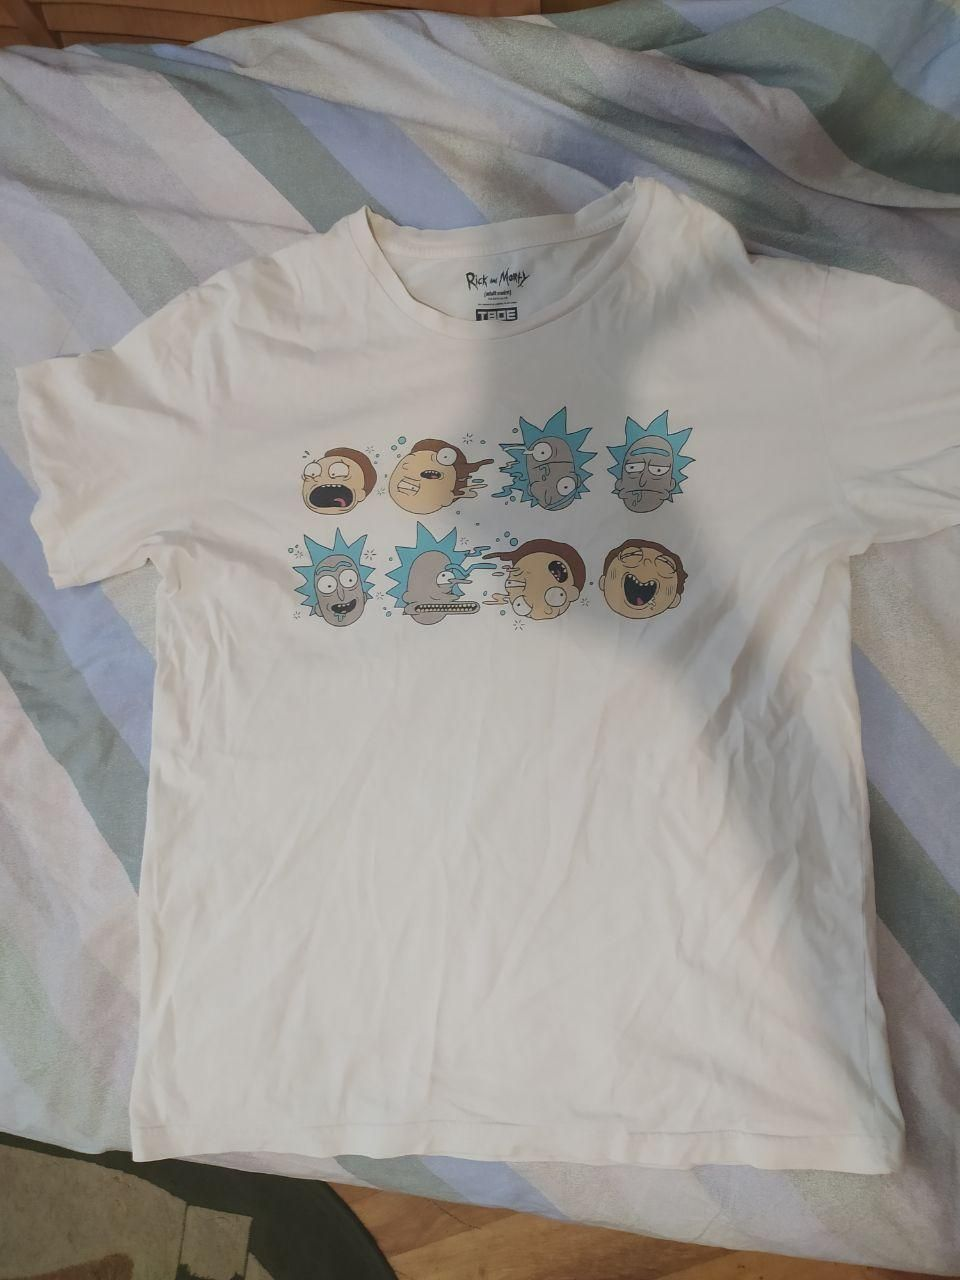clothes: (22, 175, 960, 1182)
